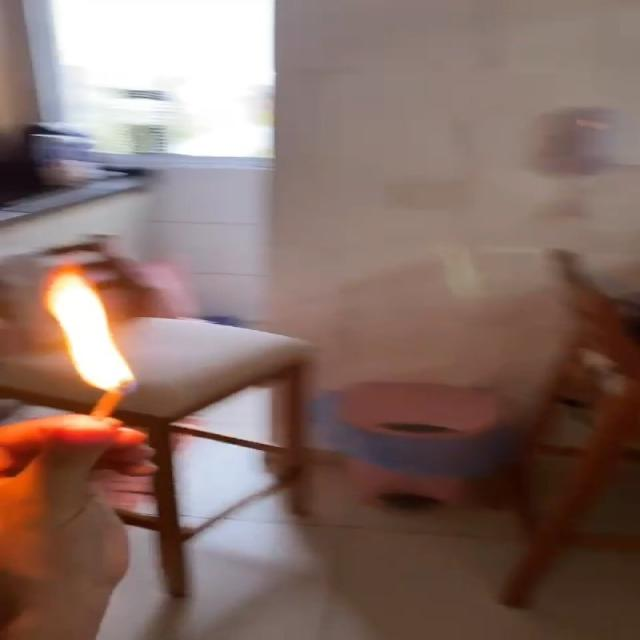fogo-ypXI: (37, 256, 141, 398)
